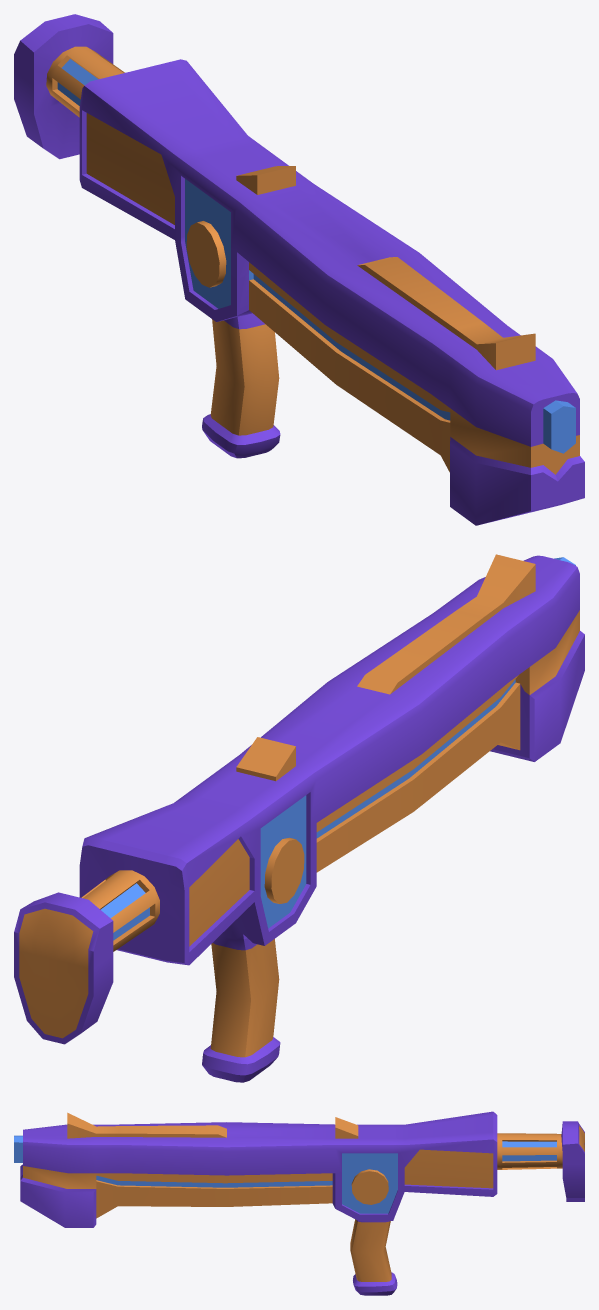
Rendered from PulsarRifle.fbx.
3 renders of one model, top to bottom at view 1: azimuth 30°, elevation 25°; view 2: azimuth 150°, elevation 25°; view 3: azimuth 270°, elevation 25°, orthographic. The views are drawn at different scales.
Visible parts, largest first — view 1: PulsarRifle; view 2: PulsarRifle; view 3: PulsarRifle.
Part boxes in pixels (x1,y1,x2,y2): PulsarRifle: (14, 14, 584, 525); PulsarRifle: (14, 554, 584, 1082); PulsarRifle: (14, 1111, 584, 1295).
Bounding box in the file's own units: 21.78 × 59.52 × 179.
